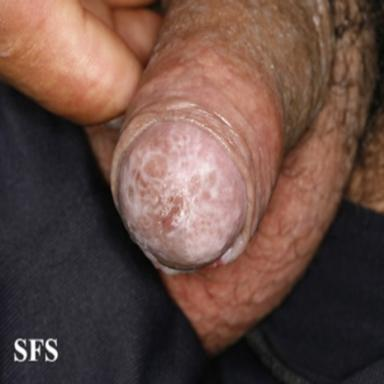lichen: (119, 121, 248, 272)
